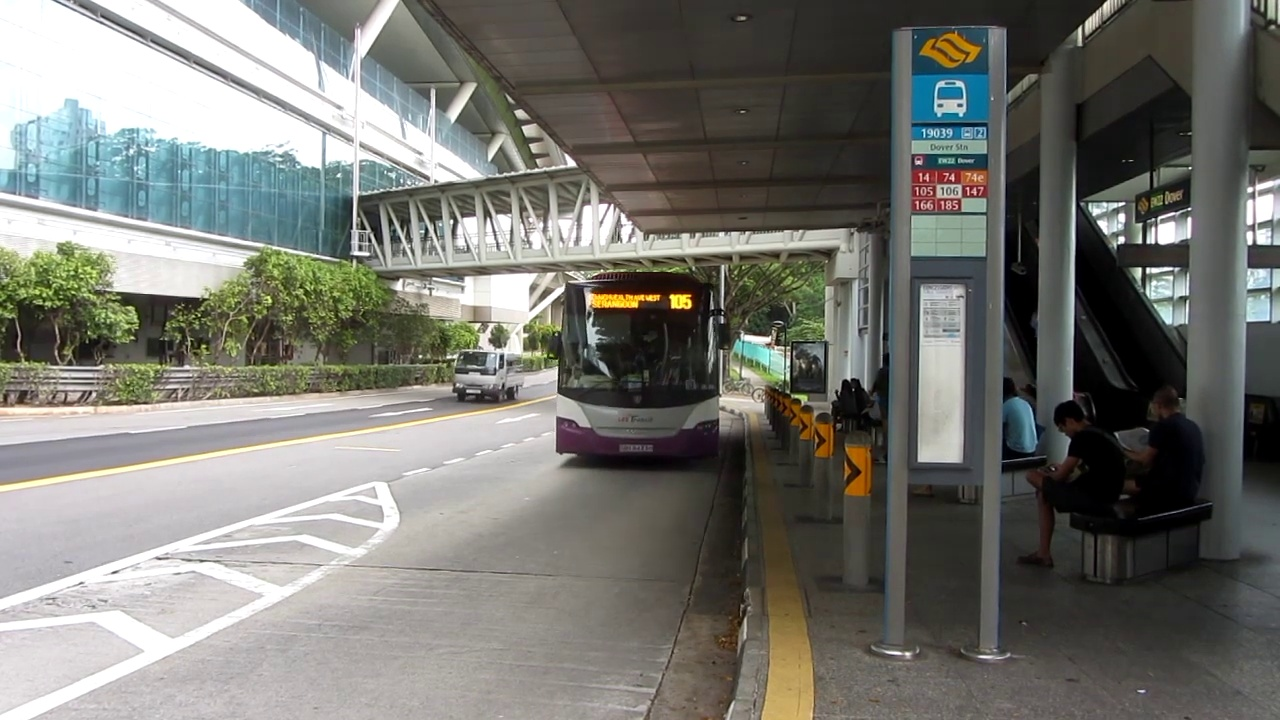bus panel: (585, 291, 697, 310)
